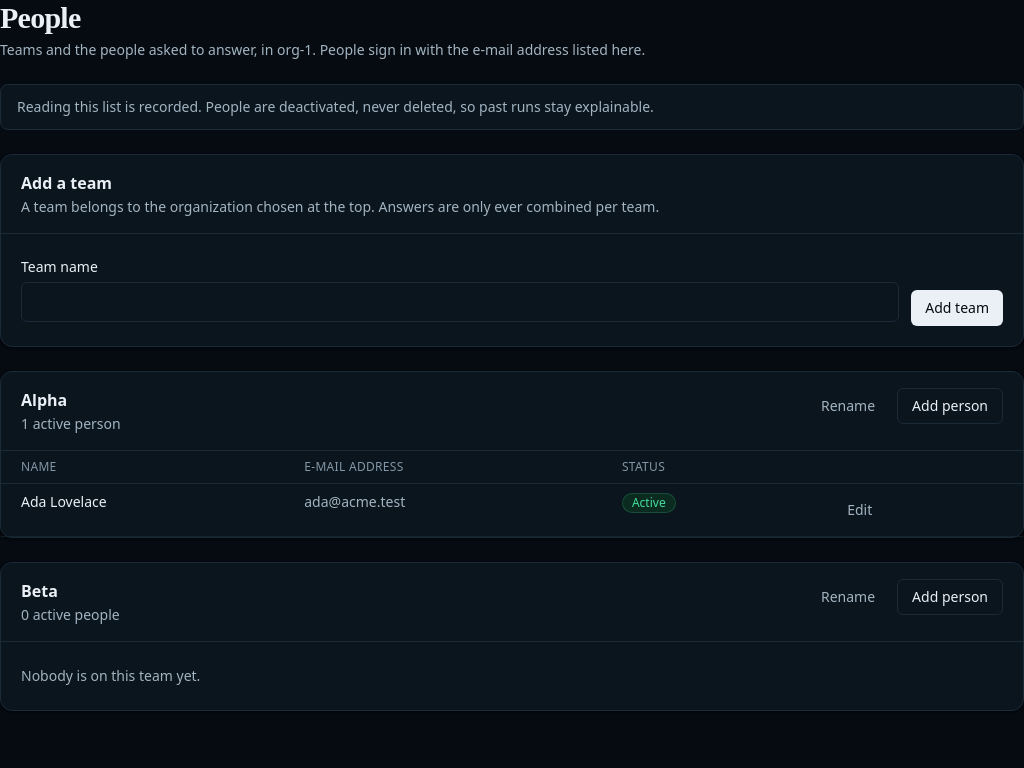
it: PeoplePage › says so when a team name is already taken
Expected: the element named "Team Alpha" is shown, [0, 371, 1023, 538]
Type "alpha" into the field labelled "Team name" at (460, 302), box [21, 282, 899, 322]
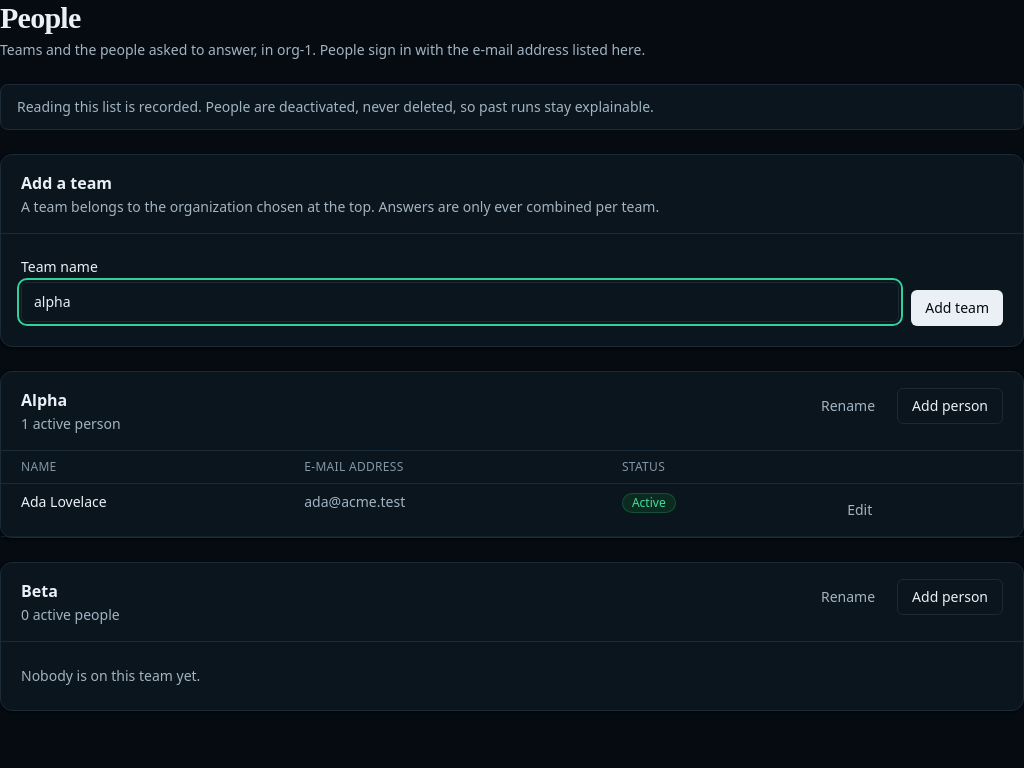
Click the button "Add team" at (957, 308), box [911, 290, 1003, 326]
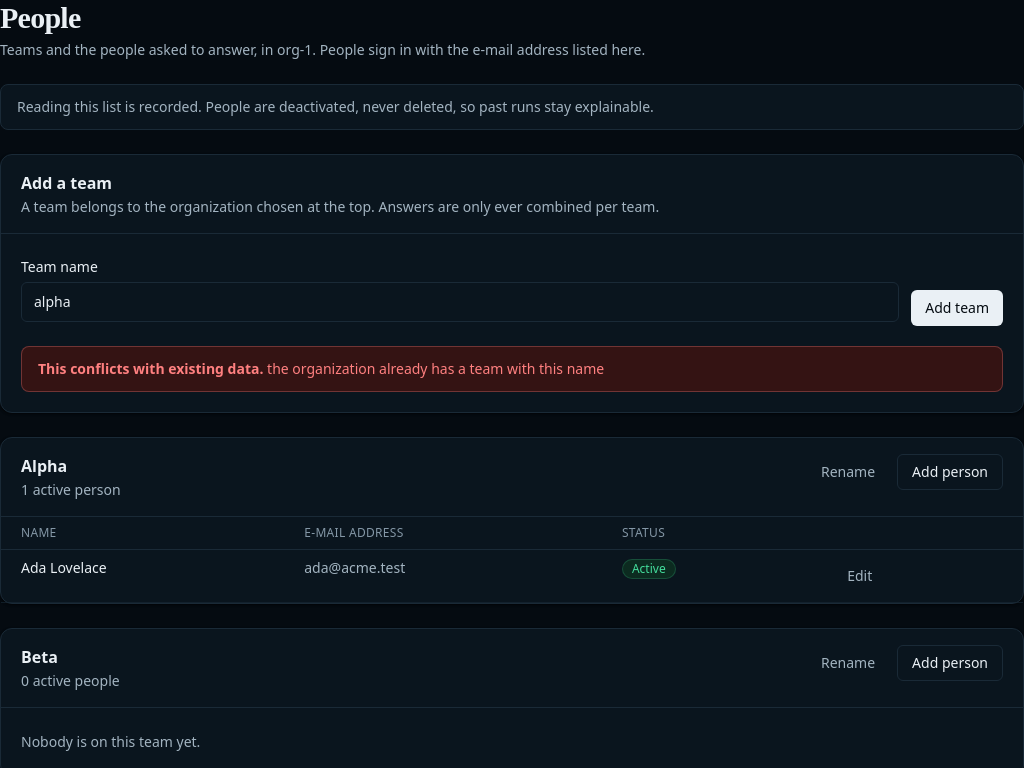
Result: the text "already has a team with this name" is shown at [267, 359, 604, 378]
